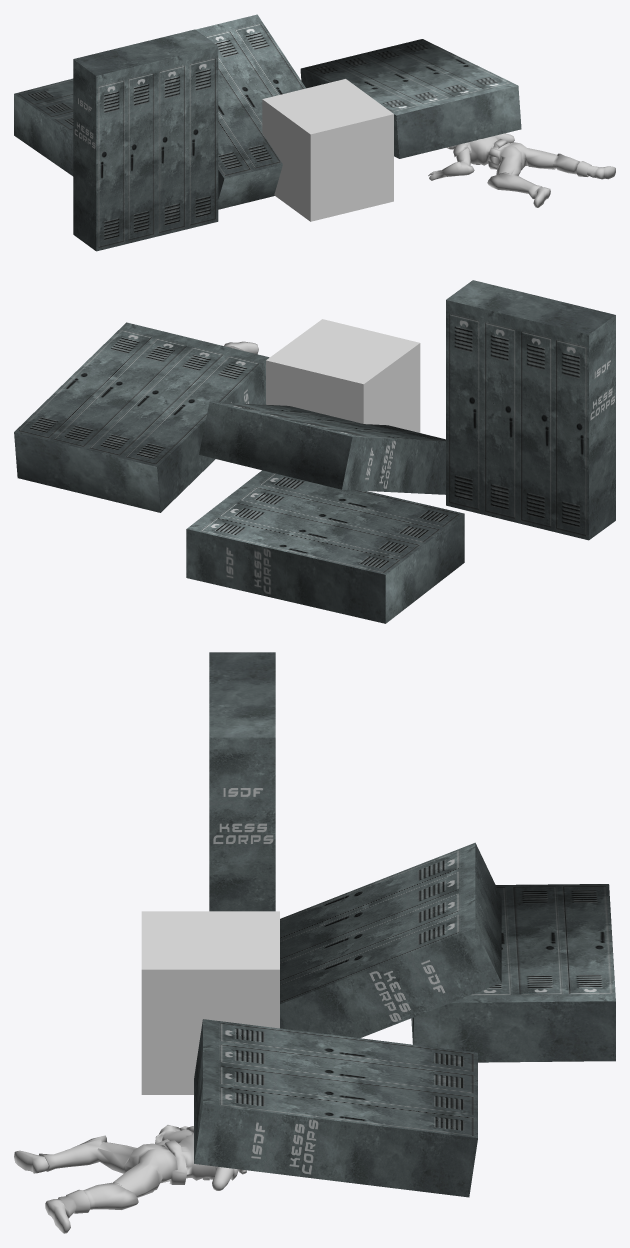
Rendered from pbscen02.FBX.
3 views of the same model, one above another, from view 1: azimuth 30°, elevation 25°; view 2: azimuth 150°, elevation 25°; view 3: azimuth 270°, elevation 25° (orthographic). The views are drawn at different scales.
Visible parts, largest first — view 1: pbscen02, hp_dummyroot, objdpil004; view 2: pbscen02, hp_dummyroot; view 3: pbscen02, hp_dummyroot, objdpil004.
Part boxes in pixels (x1,y1,x2,y2): pbscen02: (14,14,521,251); hp_dummyroot: (262,79,393,221); objdpil004: (428,133,615,207); pbscen02: (14,280,615,623); hp_dummyroot: (266,319,420,432); pbscen02: (194,652,615,1197); hp_dummyroot: (141,911,279,1094); objdpil004: (14,1125,246,1233).
Size of the model in its own units: 5.62 by 4.35 by 2.04.
